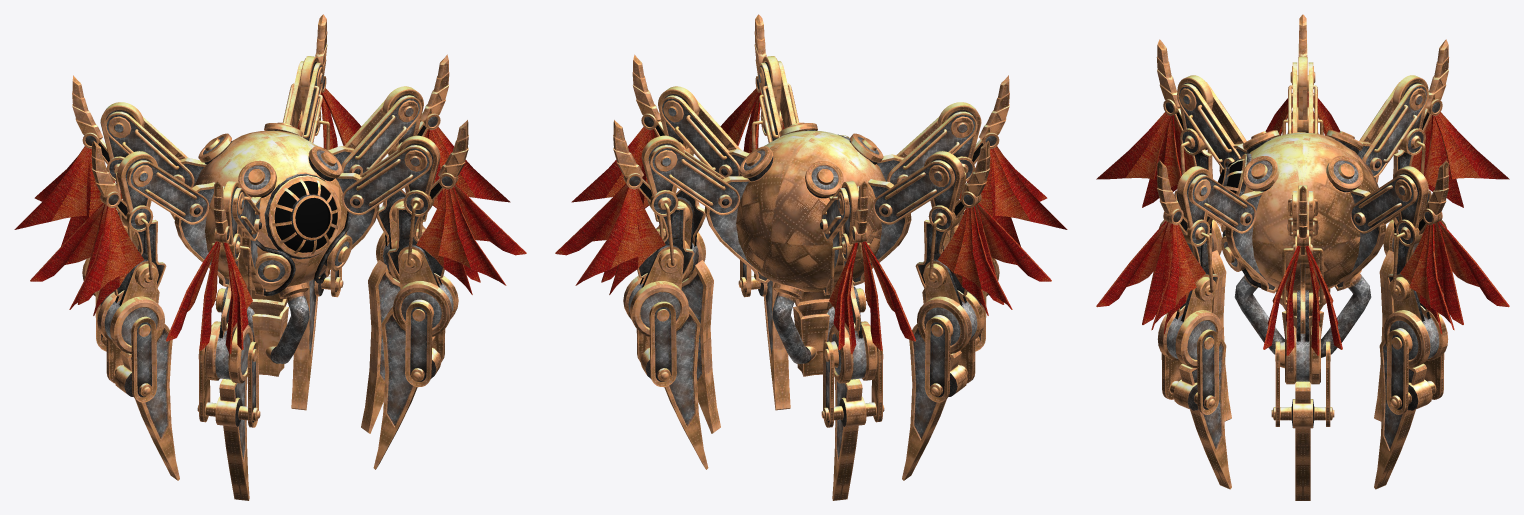
File: leg_test.glb
3 views of the same model, side by side, from view 1: azimuth 30°, elevation 25°; view 2: azimuth 150°, elevation 25°; view 3: azimuth 270°, elevation 25° (orthographic).
Visible parts, largest first — view 1: Leg.002, Leg.004, Body, Leg.003, Leg, Leg.005, Leg.001; view 2: Leg.001, Leg.004, Body, Leg.005, Leg, Leg.003, Leg.002; view 3: Leg.002, Leg.001, Body, Leg, Leg.005, Leg.003, Leg.004.
Boxes of the visible parts, x1=… form: Leg.002: x1=318, y1=120, x2=526, y2=469; Leg.004: x1=30, y1=140, x2=229, y2=480; Body: x1=194, y1=122, x2=352, y2=376; Leg.003: x1=166, y1=181, x2=266, y2=500; Leg: x1=328, y1=54, x2=510, y2=433; Leg.005: x1=14, y1=75, x2=206, y2=351; Leg.001: x1=282, y1=14, x2=361, y2=410; Leg.001: x1=555, y1=120, x2=769, y2=469; Leg.004: x1=852, y1=140, x2=1051, y2=480; Body: x1=736, y1=122, x2=885, y2=376; Leg.005: x1=820, y1=181, x2=915, y2=500; Leg: x1=571, y1=54, x2=749, y2=433; Leg.003: x1=877, y1=75, x2=1067, y2=351; Leg.002: x1=720, y1=14, x2=799, y2=410; Leg.002: x1=1096, y1=160, x2=1277, y2=489; Leg.001: x1=1334, y1=160, x2=1509, y2=489; Body: x1=1217, y1=130, x2=1378, y2=357; Leg: x1=1263, y1=185, x2=1342, y2=500; Leg.005: x1=1358, y1=39, x2=1509, y2=421; Leg.003: x1=1096, y1=39, x2=1247, y2=421; Leg.004: x1=1265, y1=14, x2=1340, y2=292.
Bounding box in the file's own units: 34.66 × 26.82 × 28.35.
2 materials, 2 textured.
